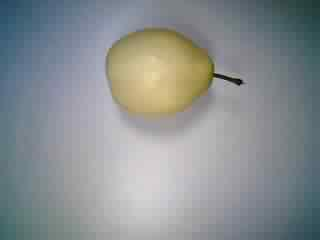pear: (91, 23, 251, 120)
